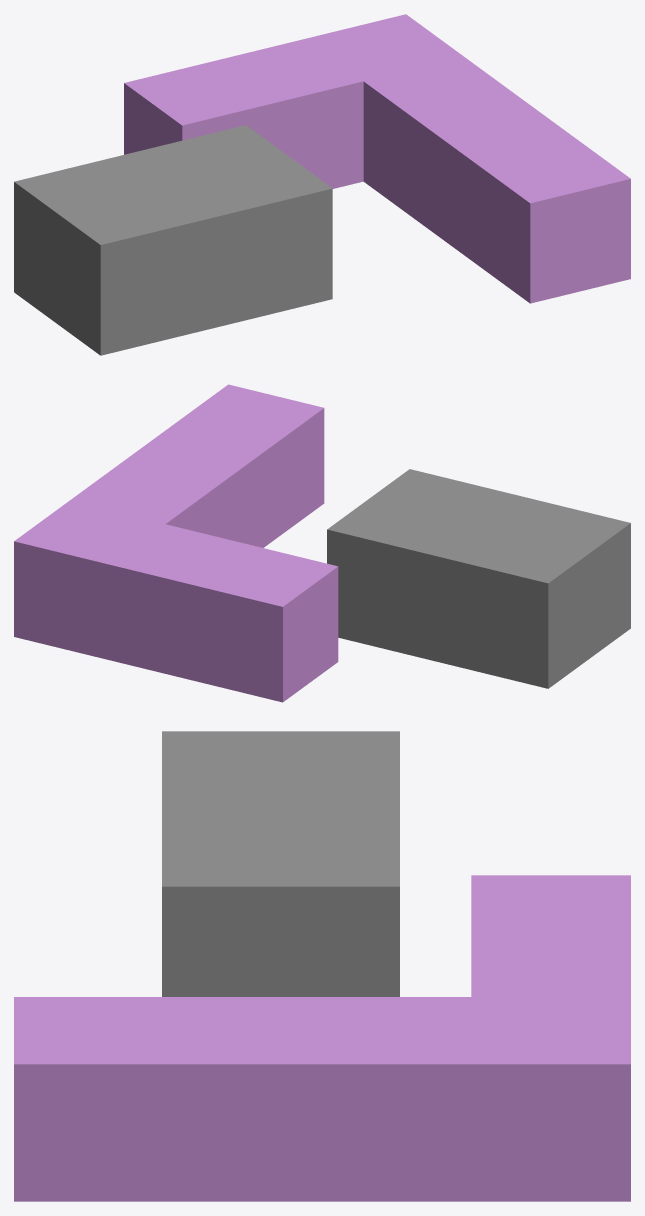
The model's file is teste2.obj.
The picture shows the model from 3 angles, top to bottom: view 1: azimuth 30°, elevation 25°; view 2: azimuth 150°, elevation 25°; view 3: azimuth 270°, elevation 25°; orthographic projection. The views are drawn at different scales.
Parts seen in each view (by area): view 1: part_01, part_00; view 2: part_01, part_00; view 3: part_01, part_00.
Part boxes in pixels (box(x1,y1,x2,y2)): part_01: box(124, 14, 630, 303); part_00: box(14, 125, 332, 355); part_01: box(14, 384, 338, 702); part_00: box(327, 469, 630, 688); part_01: box(14, 875, 630, 1201); part_00: box(162, 731, 399, 996).
Size of the model in its own units: 19.75 by 4.38 by 16.15.
